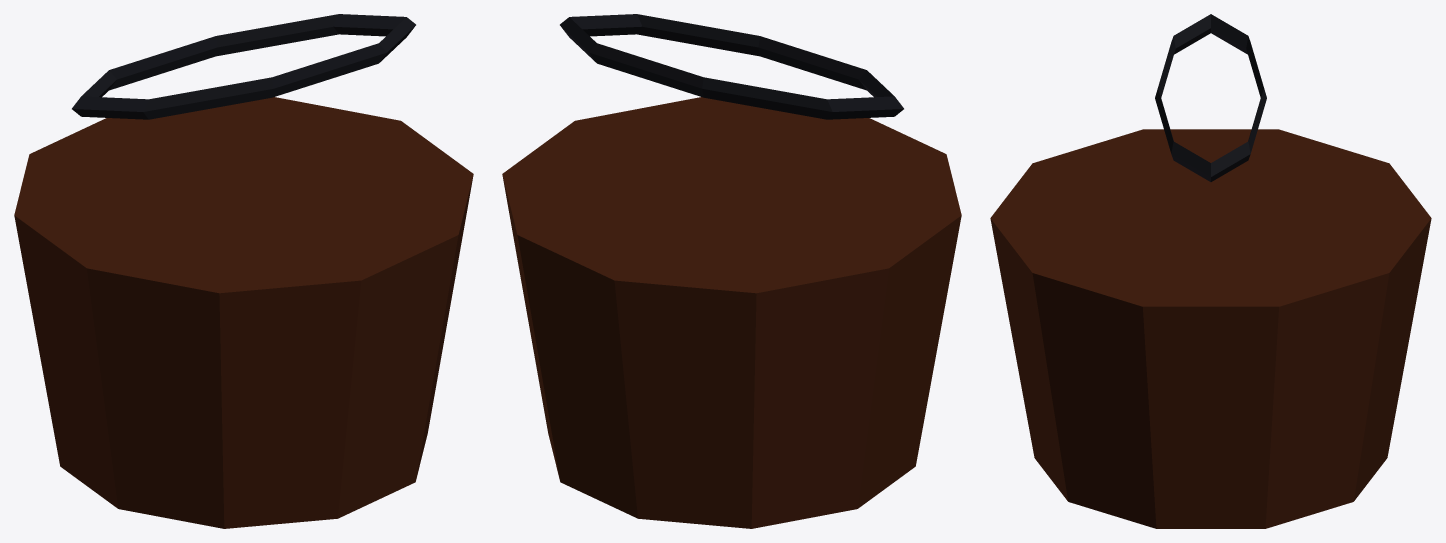
The model's file is water_bucket.obj.
3 views of the same model, side by side, from view 1: azimuth 30°, elevation 25°; view 2: azimuth 150°, elevation 25°; view 3: azimuth 270°, elevation 25° (orthographic). The views are drawn at different scales.
Visible parts, largest first — view 1: water_bucket; view 2: water_bucket; view 3: water_bucket.
Part boxes in pixels (<box>): water_bucket: <box>14,14,473,528</box>; water_bucket: <box>502,14,961,528</box>; water_bucket: <box>990,14,1431,528</box>.
Bounding box in the file's own units: 0.4755 × 0.462 × 0.5.
